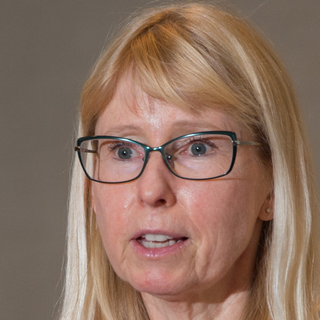eye: (103, 140, 146, 166), (177, 138, 220, 162)
